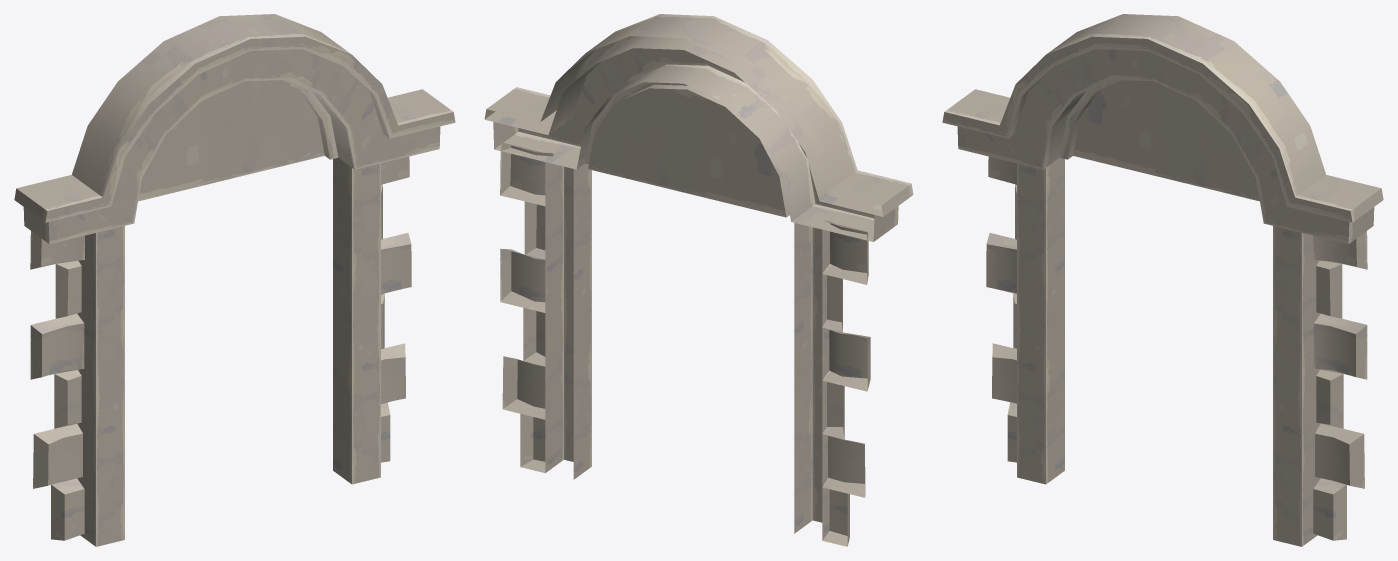
File: MOD_Door_03_framedeco_03_02.fbx
The picture shows the model from 3 angles, left to right: view 1: azimuth 30°, elevation 25°; view 2: azimuth 150°, elevation 25°; view 3: azimuth 330°, elevation 25°; orthographic projection. The views are drawn at different scales.
Visible parts, largest first — view 1: MOD_Door_03_framedeco_03_02; view 2: MOD_Door_03_framedeco_03_02; view 3: MOD_Door_03_framedeco_03_02.
Part boxes in pixels (left/top/right/bottom): MOD_Door_03_framedeco_03_02: left=14, top=14, right=455, bottom=546; MOD_Door_03_framedeco_03_02: left=484, top=14, right=913, bottom=546; MOD_Door_03_framedeco_03_02: left=942, top=14, right=1383, bottom=546.
Size of the model in its own units: 346 by 388 by 45.72.
